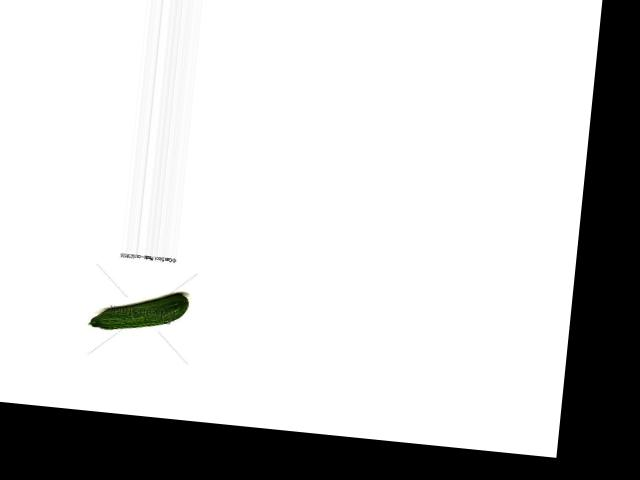cucumber: (87, 284, 188, 336)
